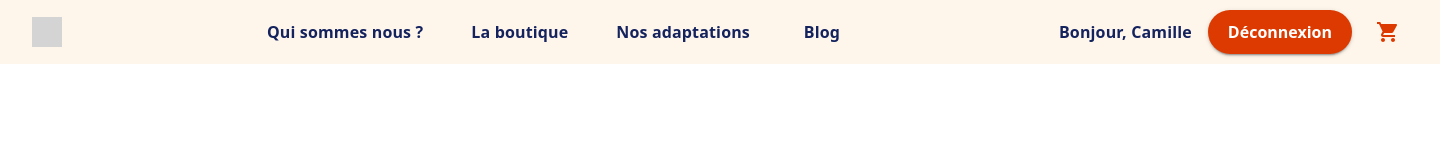
it: Header — état de session › déconnecte, vide la session stockée et remet le bouton de connexion
Click the button "Déconnexion" at (1280, 32), box 1208,10 -> 1352,54
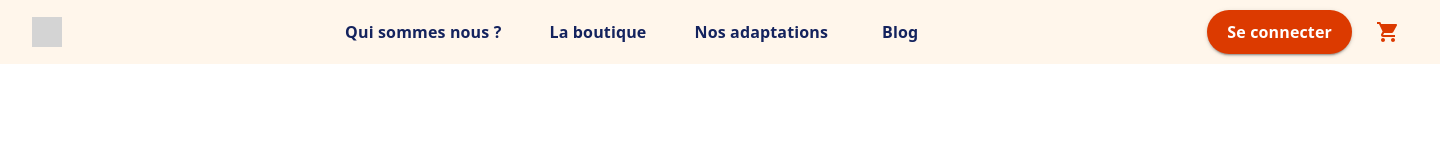
Now the link "Se connecter" is shown, box 1207,10 -> 1352,54
Now the link "Bonjour, Camille" is gone
